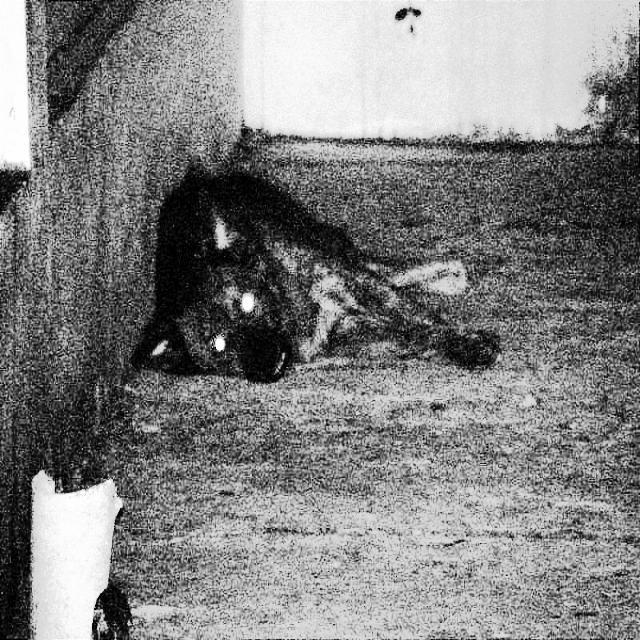Dog: (138, 100, 517, 438)
